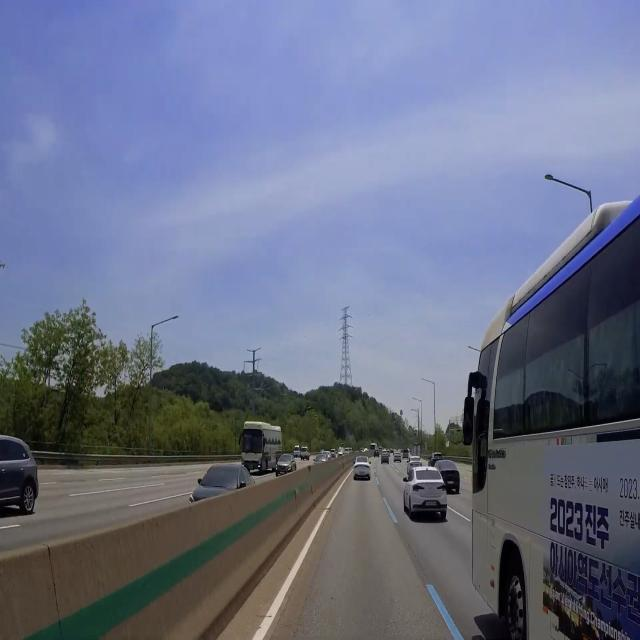car: (422, 497, 441, 510), (445, 478, 457, 489), (247, 462, 256, 469), (357, 472, 366, 477), (278, 471, 285, 476)
